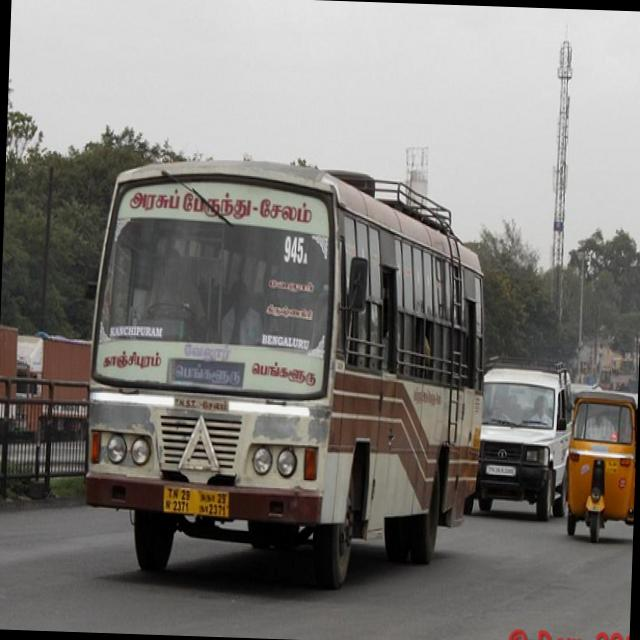Vehicle: (79, 156, 488, 599), (464, 354, 574, 524), (562, 382, 638, 544)
